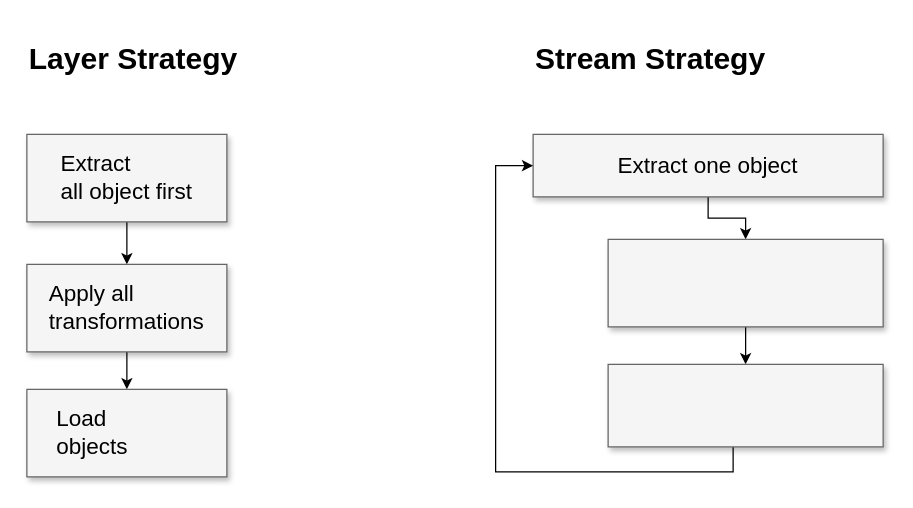
Image size: 913x508. Some labels were removed from this diagram. Here are the shapes that lost their labels. From the top down, the centre of each, then its label:
At (x=746, y=284): "Apply all transformations on current object".
At (x=746, y=407): "Load the object".
